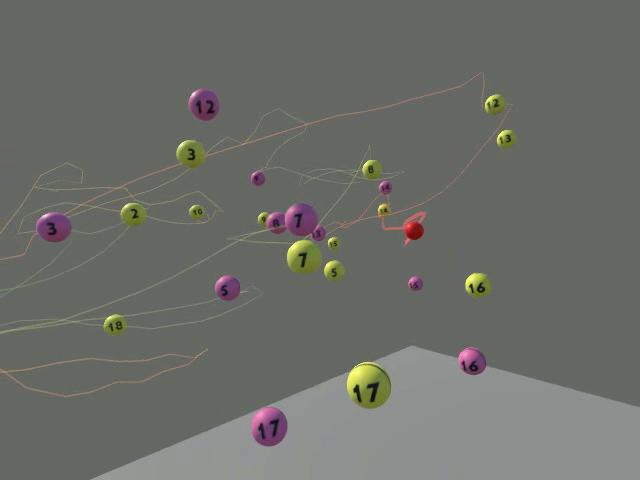ball_02_yellow: (120, 202, 146, 225)
ball_03_pink: (35, 211, 71, 242)
ball_03_yellow: (176, 140, 205, 168)
ball_05_pink: (214, 273, 239, 300)
ball_05_yellow: (324, 261, 344, 281)
ball_07_pink: (284, 202, 317, 236)
ball_07_yellow: (286, 239, 321, 273)
ball_08_yellow: (265, 210, 286, 233), (361, 159, 381, 179)
ball_09_pink: (250, 170, 265, 186)
ball_10_yellow: (188, 204, 203, 219)
ball_12_pink: (187, 89, 219, 122)
ball_12_yellow: (484, 94, 506, 114)
ball_13_yellow: (496, 129, 516, 148)
ball_14_pink: (378, 180, 391, 194)
ball_14_yellow: (377, 203, 390, 216)
ball_15_pink: (407, 275, 423, 291)
ball_15_yellow: (327, 235, 339, 249)
ball_16_pink: (457, 347, 486, 375)
ball_16_yellow: (464, 272, 491, 297)
ball_17_pink: (251, 406, 287, 446)
ball_17_yellow: (346, 361, 391, 408)
ball_18_yellow: (104, 314, 127, 336)
ball_unknown: (310, 224, 325, 241), (257, 210, 269, 225)
user_cursor: (404, 220, 423, 239)
